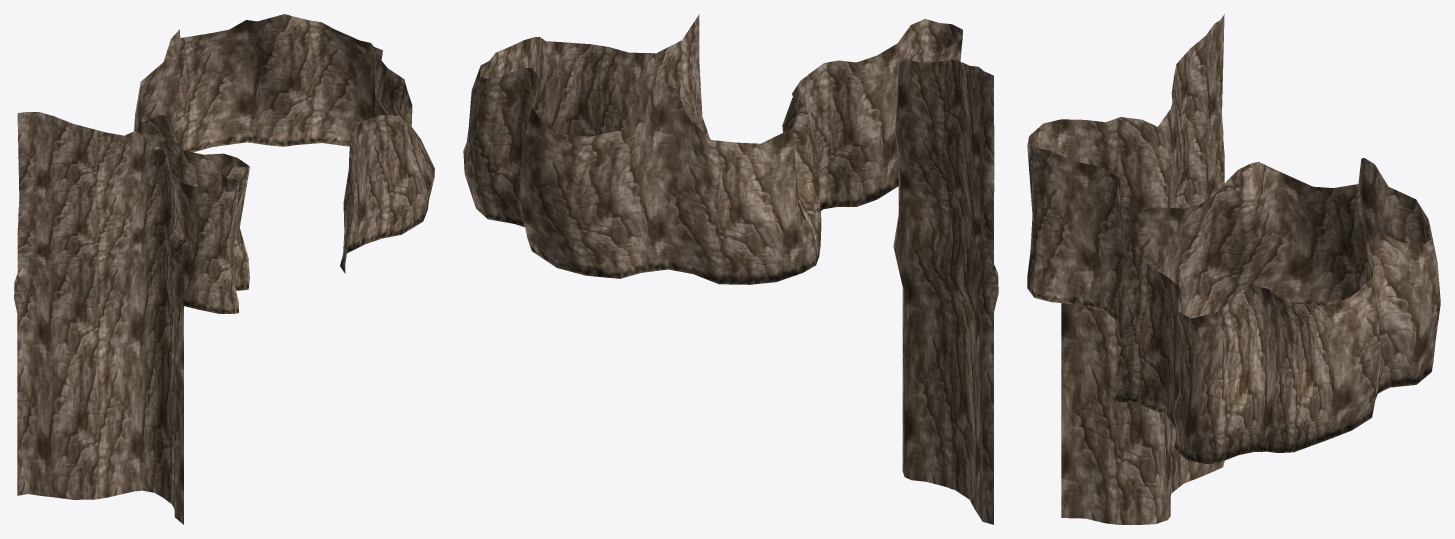
File: OVERHILL_A_01_OBJECT39.fbx
The picture shows the model from 3 angles, left to right: view 1: azimuth 30°, elevation 25°; view 2: azimuth 150°, elevation 25°; view 3: azimuth 270°, elevation 25°; orthographic projection. The views are drawn at different scales.
Visible parts, largest first — view 1: OVERHILL_A_01_OBJECT39; view 2: OVERHILL_A_01_OBJECT39; view 3: OVERHILL_A_01_OBJECT39.
Boxes of the visible parts, bbox=[...] form: OVERHILL_A_01_OBJECT39: bbox=[14, 14, 434, 524]; OVERHILL_A_01_OBJECT39: bbox=[463, 14, 998, 524]; OVERHILL_A_01_OBJECT39: bbox=[1027, 14, 1440, 524].
Bounding box in the file's own units: 341430 × 295351 × 246440.
Materials: 2 (2 with a texture image).
